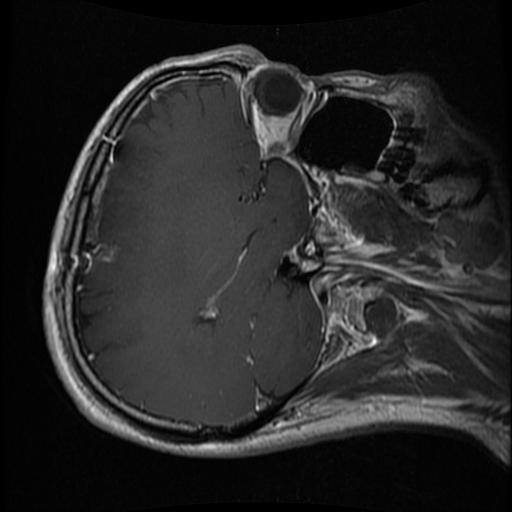glioma: (92, 243, 121, 265)
